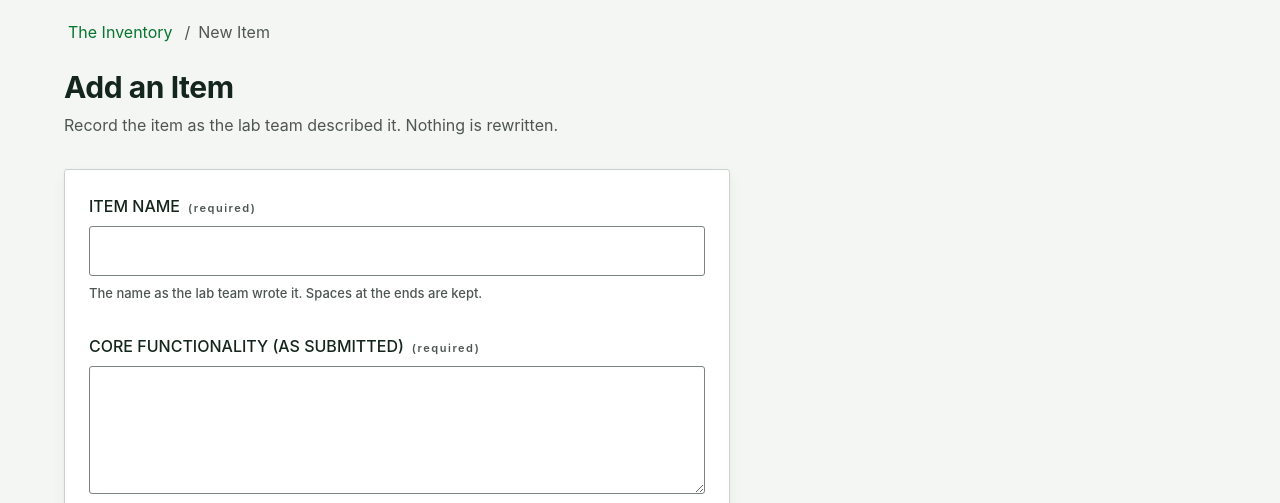
S-005 Item Editor (/admin/items/new and /admin/items/[id]) › handles 409 condition-enum-invalid with frozen banner and field error
This screenshot has width=1280, height=503.
Type "Faulty Widget" into the field labelled "ITEM NAME" at (397, 250), box 89,226 -> 705,276
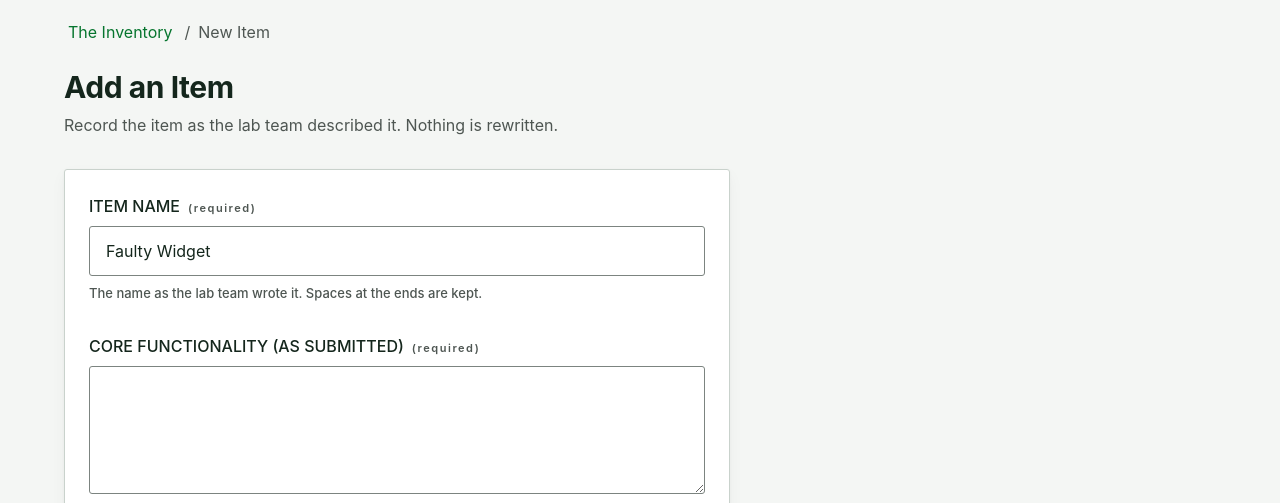
Type "Does something" into the text box labelled "CORE FUNCTIONALITY (AS SUBMITTED)" at (397, 430), box 89,366 -> 705,494
(page scrolled)
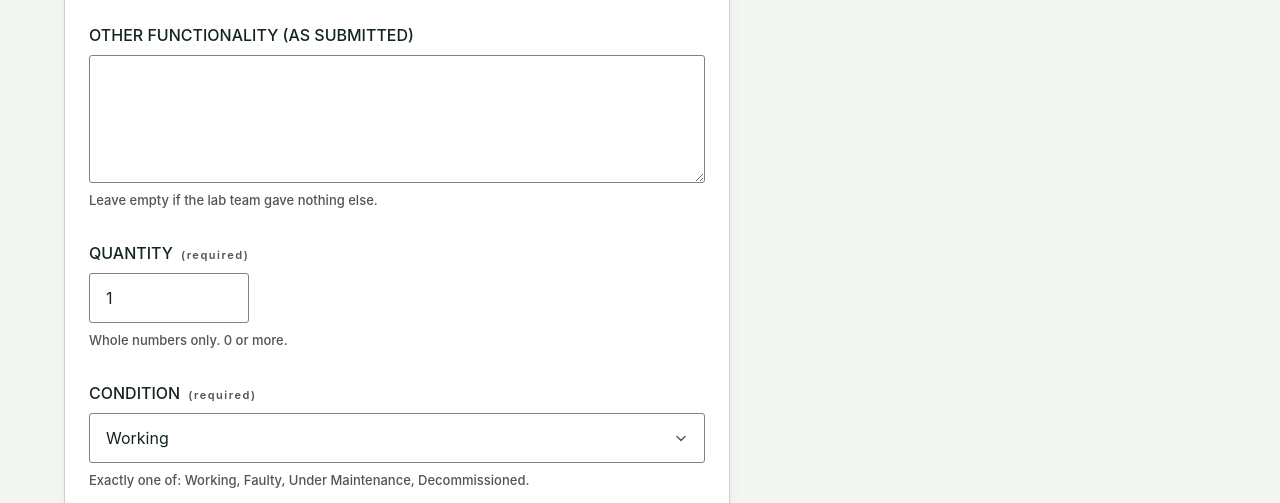
Replace the text in the number field labelled "QUANTITY" with "2" at (169, 298), box 89,273 -> 249,323
(page scrolled)
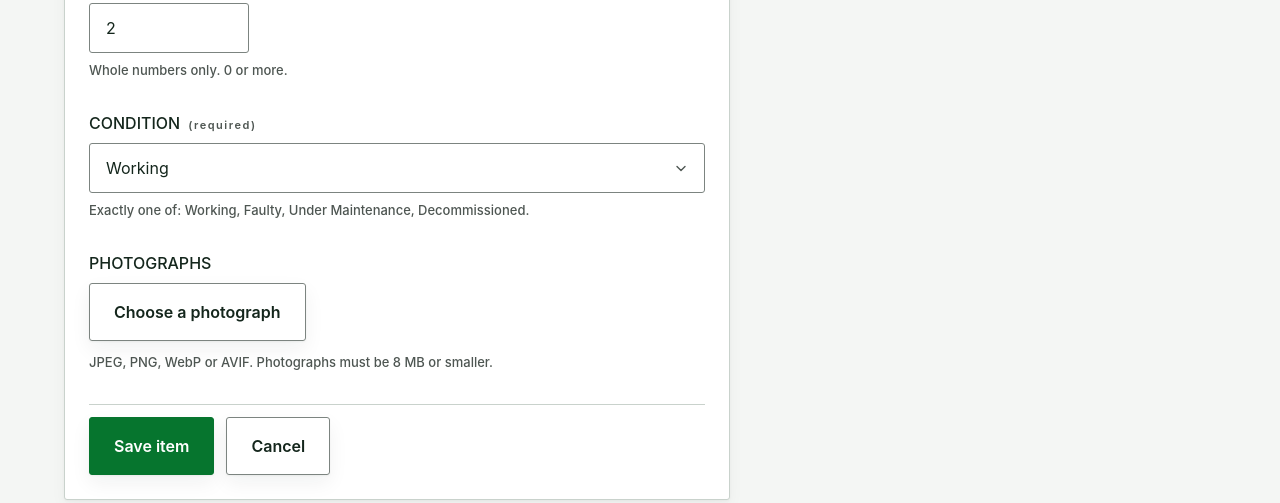
Click the button "Save item" at (152, 446), box 89,417 -> 214,475
(page scrolled)
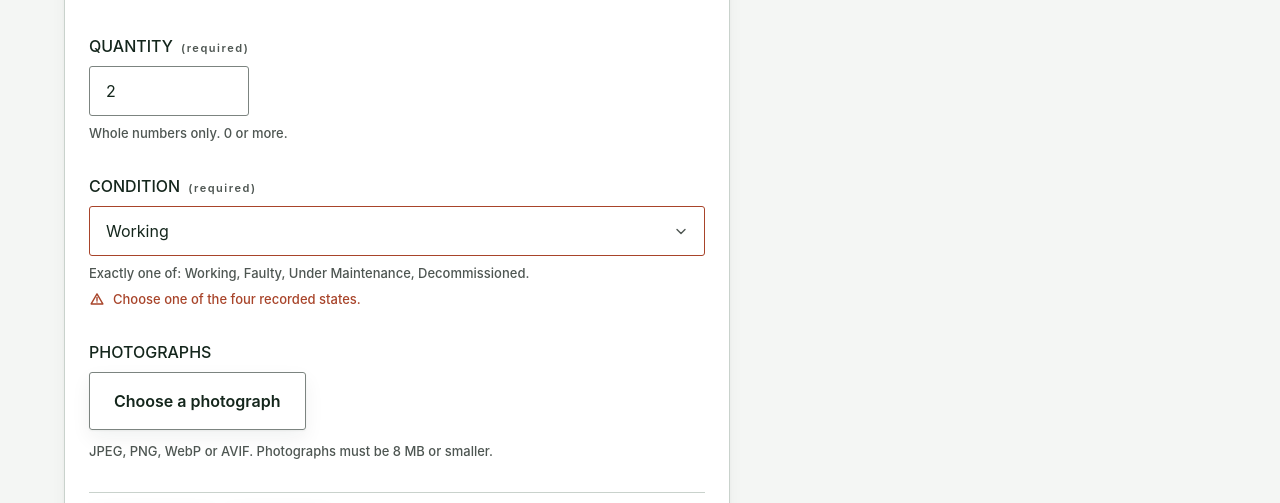
expect the text "Choose one of the four recorded states." is shown: met, box 113,290 -> 361,308
